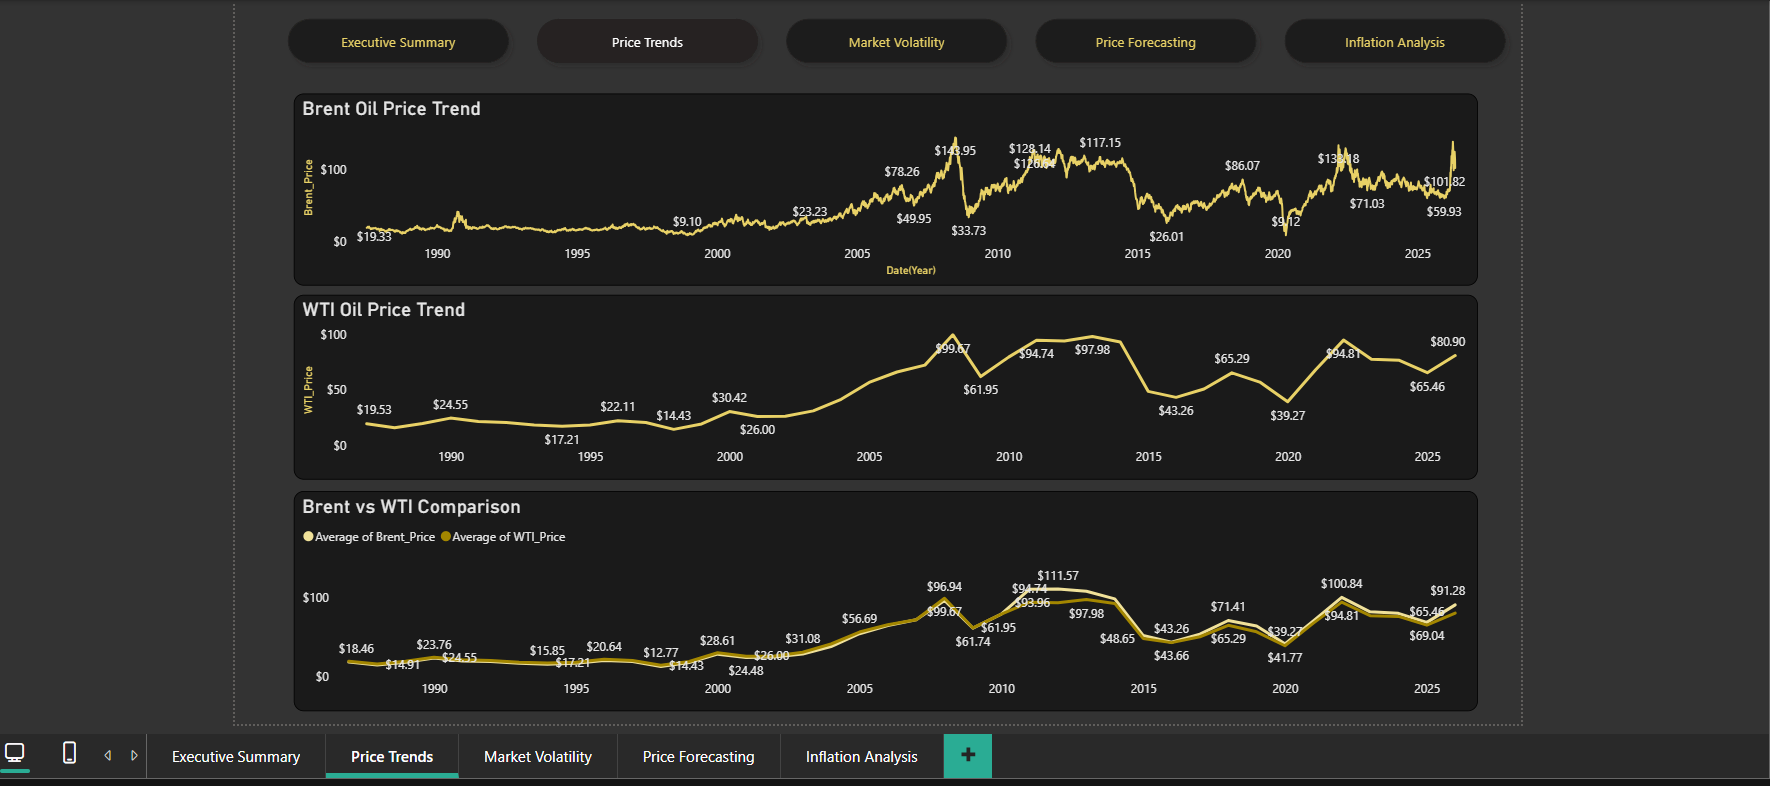

This screenshot's page, from the dashboard's own definition file:
{"tool":"powerbi","page":{"name":"Price Trends","canvas":[1280,720],"ordinal":1},"visuals":[{"type":"lineChart","title":"Brent Oil Price Trend","fields":{"Y":["Avg(Oil_Project_Final.Brent_Price)"],"Category":["Oil_Project_Final.Date.Variation.Date Hierarchy.Year","Oil_Project_Final.Date.Variation.Date Hierarchy.Quarter","Oil_Project_Final.Date.Variation.Date Hierarchy.Month","Oil_Project_Final.Date.Variation.Date Hierarchy.Day"]},"box":[58.5,92.1,1178,191.6],"z":0},{"type":"lineChart","title":"WTI Oil Price Trend","fields":{"Category":["Oil_Project_Final.Date.Variation.Date Hierarchy.Year","Oil_Project_Final.Date.Variation.Date Hierarchy.Quarter","Oil_Project_Final.Date.Variation.Date Hierarchy.Month","Oil_Project_Final.Date.Variation.Date Hierarchy.Day"],"Y":["Avg(Oil_Project_Final.WTI_Price)"]},"box":[58.5,292.3,1178,184.1],"z":1000},{"type":"lineChart","title":"Brent vs WTI Comparison","fields":{"Category":["Oil_Project_Final.Date.Variation.Date Hierarchy.Year","Oil_Project_Final.Date.Variation.Date Hierarchy.Quarter","Oil_Project_Final.Date.Variation.Date Hierarchy.Month","Oil_Project_Final.Date.Variation.Date Hierarchy.Day"],"Y":["Avg(Oil_Project_Final.Brent_Price)","Avg(Oil_Project_Final.WTI_Price)"]},"box":[58.5,487.6,1178,218.9],"z":2000},{"type":"pageNavigator","box":[43.5,8.7,1231.5,62.2],"z":4001}]}

Visuals, with their boxes on the page's 1280x720 design canvas (x1, y1, x2, y2). These are canvas units, not pixel positions in the 1770x786 screenshot, which may show the page scaled, cropped or inside an application window:
"Brent Oil Price Trend" lineChart: BBox(58, 92, 1236, 284)
"WTI Oil Price Trend" lineChart: BBox(58, 292, 1236, 476)
"Brent vs WTI Comparison" lineChart: BBox(58, 488, 1236, 706)
pageNavigator: BBox(44, 9, 1275, 71)
